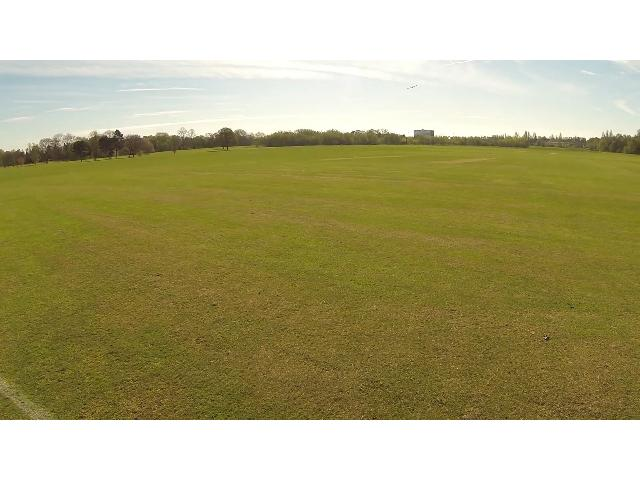Anti-Drone: (403, 82, 419, 90)
